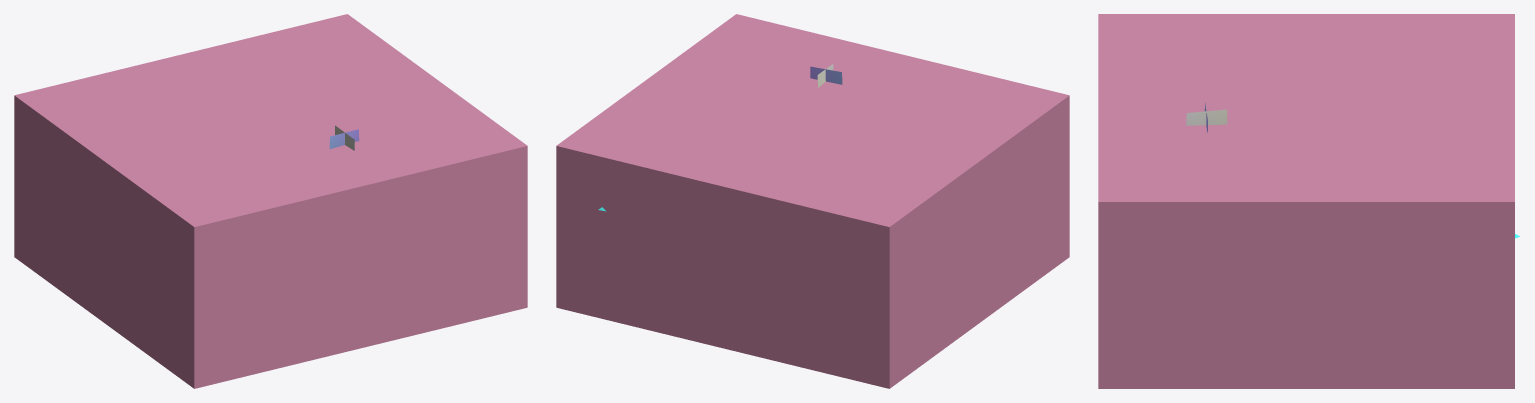
Rendered from lush_big_b.dae.
The picture shows the model from 3 angles, left to right: view 1: azimuth 30°, elevation 25°; view 2: azimuth 150°, elevation 25°; view 3: azimuth 270°, elevation 25°; orthographic projection. The views are drawn at different scales.
Visible parts, largest first — view 1: Untitled, tree_oak_bush_a230; view 2: Untitled; view 3: Untitled, tree_oak_bush_a130.
Boxes of the visible parts, x1,y1,x2,y2 form: Untitled: (14, 14, 527, 388); tree_oak_bush_a230: (330, 125, 359, 150); Untitled: (556, 14, 1069, 388); Untitled: (1098, 14, 1514, 388); tree_oak_bush_a130: (1186, 109, 1227, 131).
Size of the model in its own units: 2.13 by 2.02 by 1.17.
